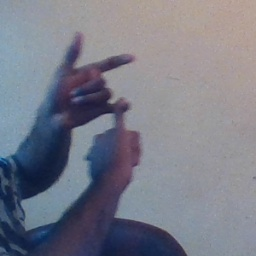S: (40, 25, 159, 185)
